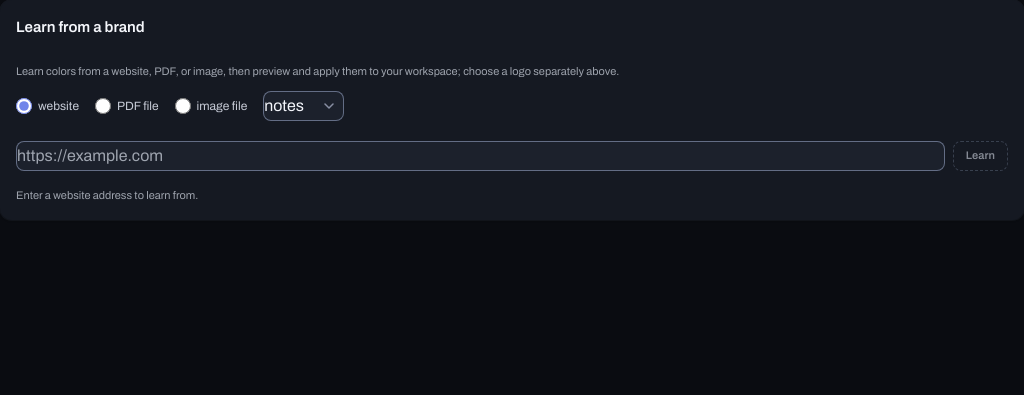
it: BrandLearn — the restored /theme extraction flow › Cancel while queued aborts the poll — no further readback requests
Type "https://acme.example" into the field with test id "learn-input" at (480, 156), box [16,141,945,171]
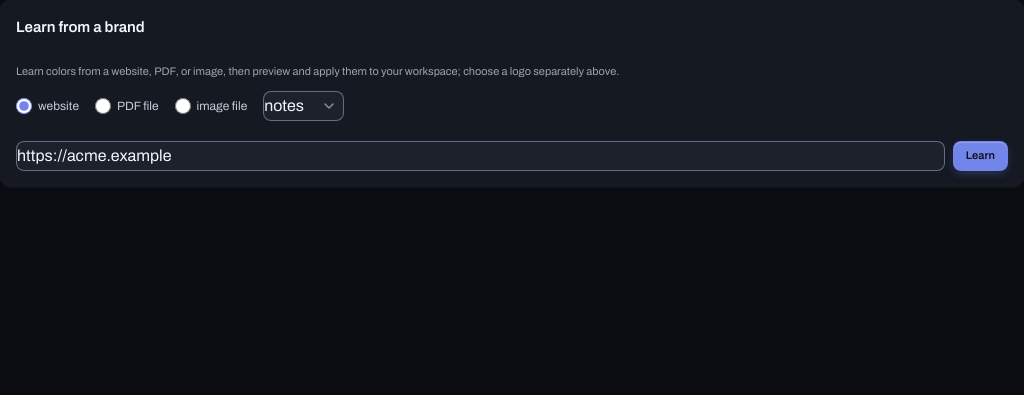
Click the button with test id "learn-submit" at (980, 156), box [953,141,1008,171]
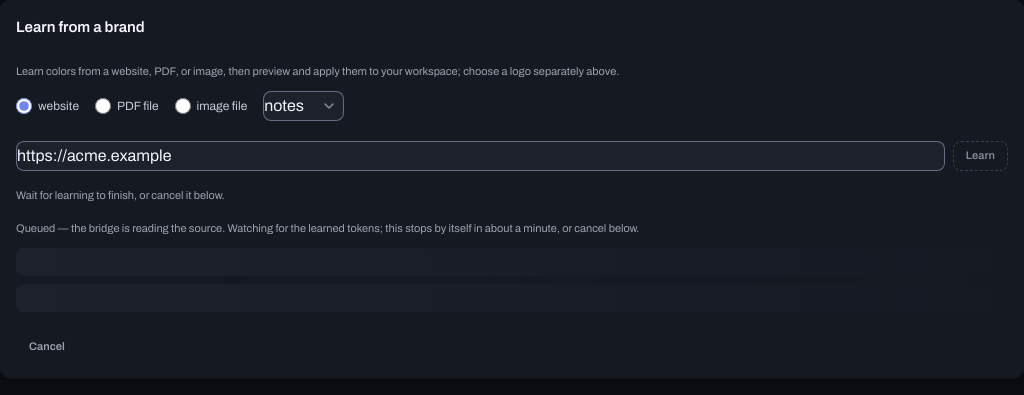
Click the button with test id "learn-cancel" at (47, 347), box [16,332,78,362]
Wait 60000 ms
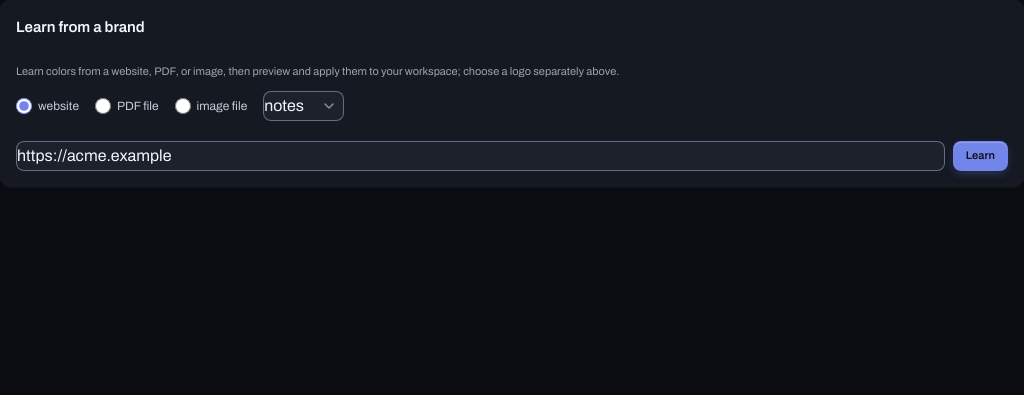
Expected: the message with test id "learn-status" is gone
